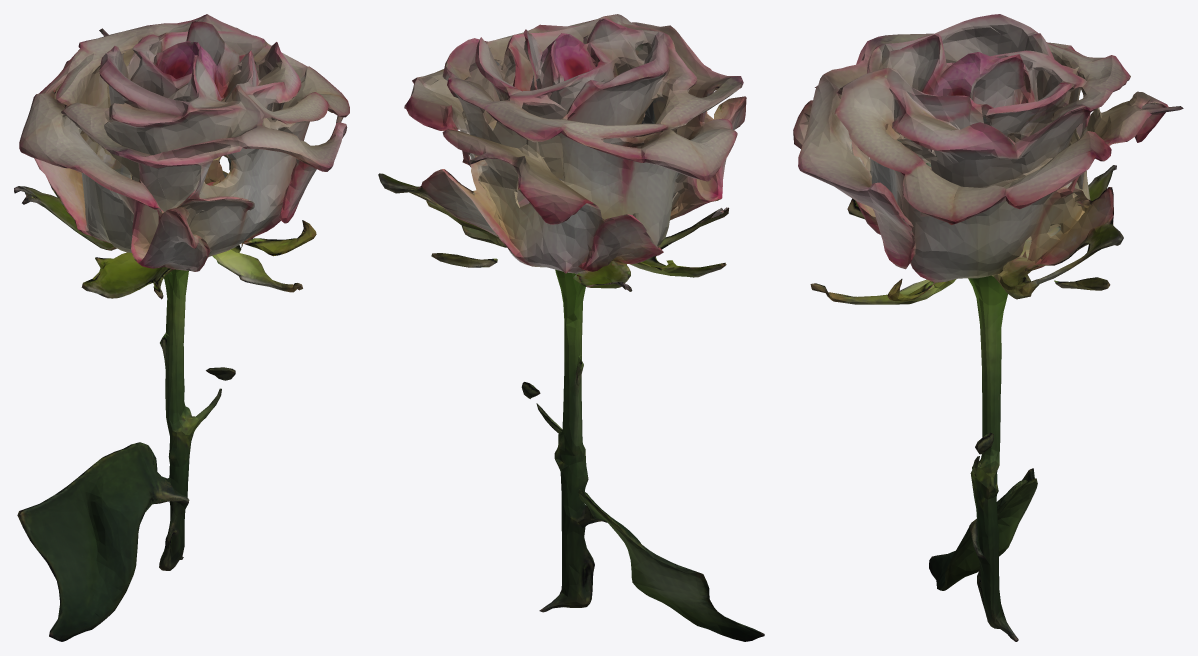
3 views of the same model, side by side, from view 1: azimuth 30°, elevation 25°; view 2: azimuth 150°, elevation 25°; view 3: azimuth 270°, elevation 25° (orthographic). The views are drawn at different scales.
Visible parts, largest first — view 1: world; view 2: world; view 3: world.
Boxes of the visible parts, x1,y1,x2,y2 form: world: [14, 14, 349, 641]; world: [378, 14, 764, 641]; world: [793, 14, 1183, 641].
Size of the model in its own units: 0.5835 by 0.9971 by 0.5744.
Materials: 1 (1 with a texture image).
